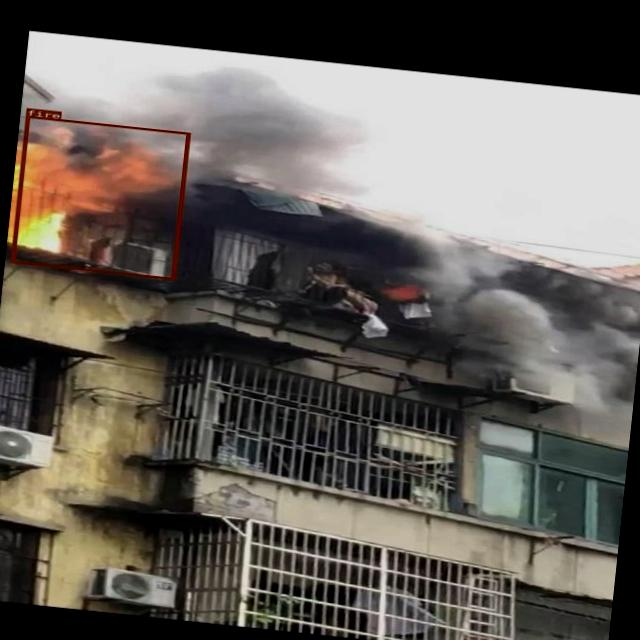fire: (8, 114, 190, 279)
